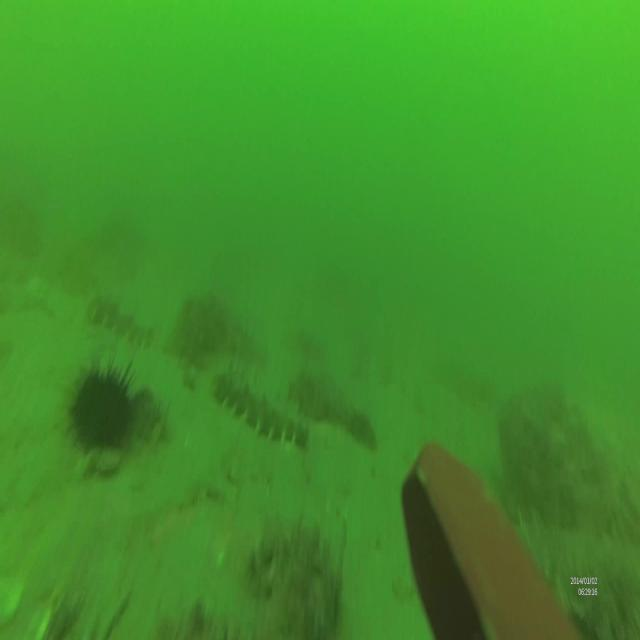echinus: (65, 356, 136, 456)
holothurian: (215, 360, 310, 449), (86, 290, 162, 352)
